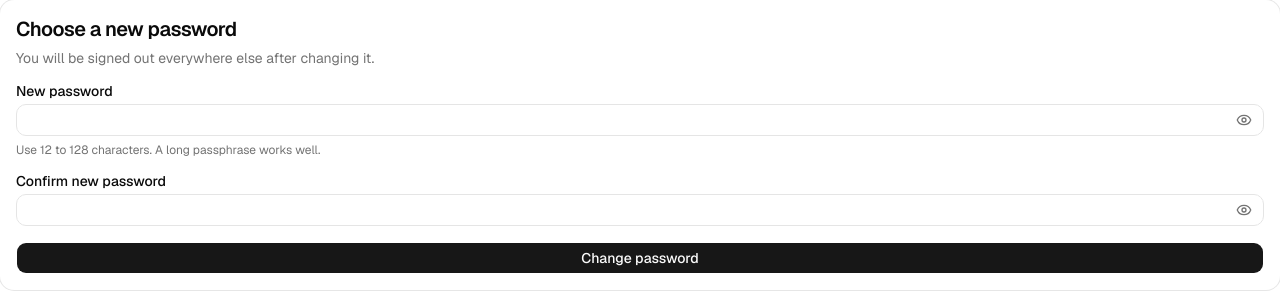
Scenario: ResetPasswordForm › 400 without field errors = invalid or expired link
The width and height of the screenshot is (1280, 308).
Step 1. Type "a-long-passphrase-123" into the password field labelled "New password" → (640, 120), box [16,104,1264,136]
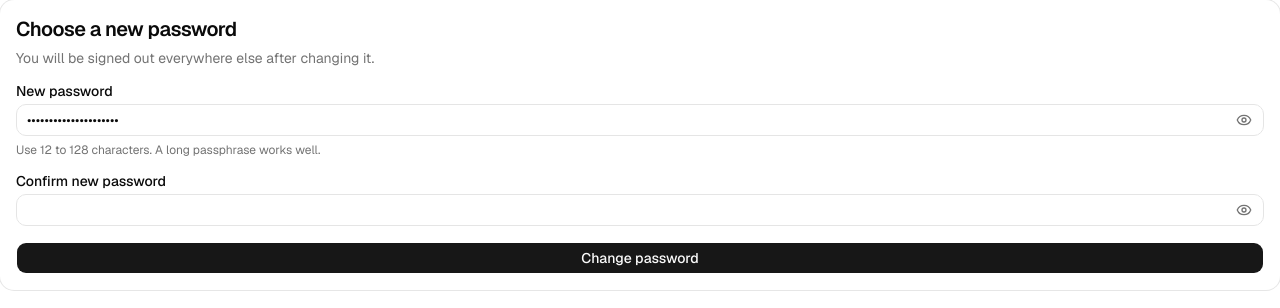
Step 2. Type "a-long-passphrase-123" into the password field labelled "Confirm new password" → (640, 210), box [16,194,1264,226]
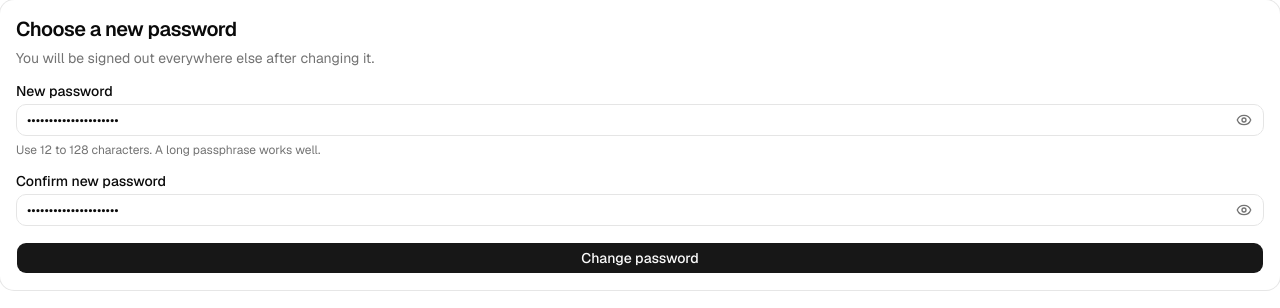
Step 3. Click the button "Change password" → (640, 258), box [16,242,1264,274]
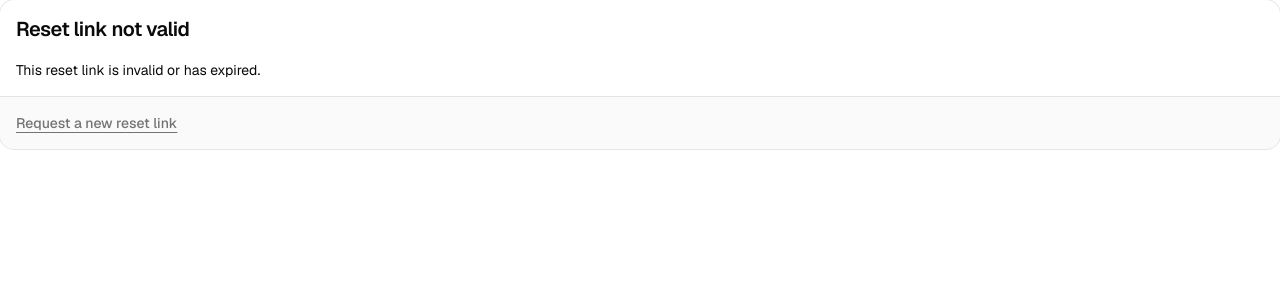
expect the text "This reset link is invalid or has expired." is shown: met, box [16,60,260,78]
